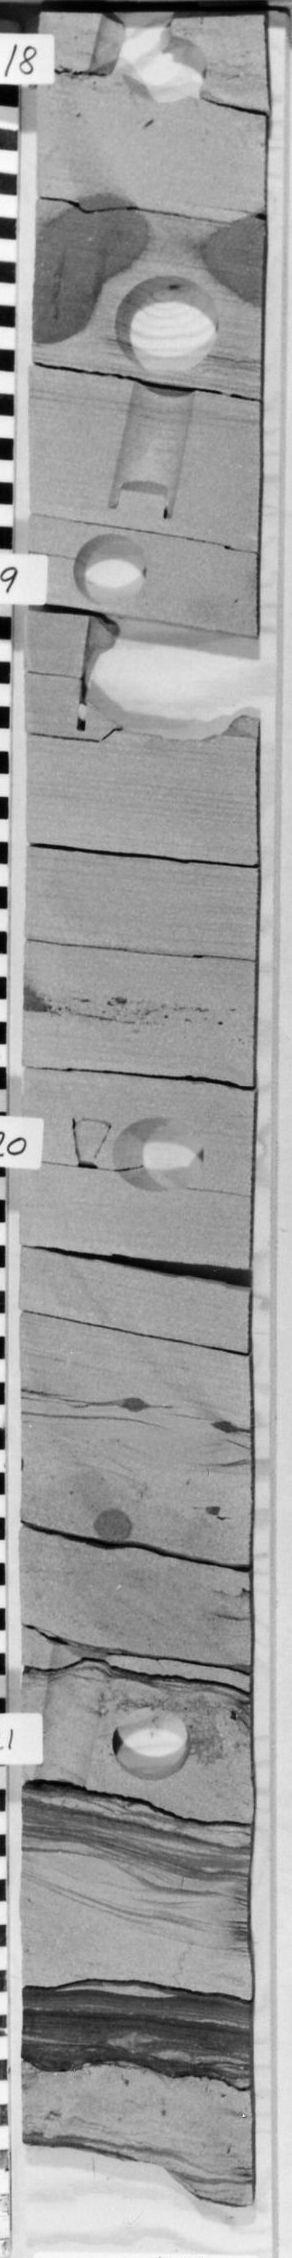hplug: (117, 1102, 214, 1201), (104, 1698, 204, 1789), (63, 527, 157, 611), (127, 36, 214, 108)
scal: (109, 265, 237, 382)
vplug: (26, 1632, 102, 1810), (102, 382, 197, 521), (78, 13, 180, 86), (68, 608, 121, 739), (59, 1110, 118, 1184)
